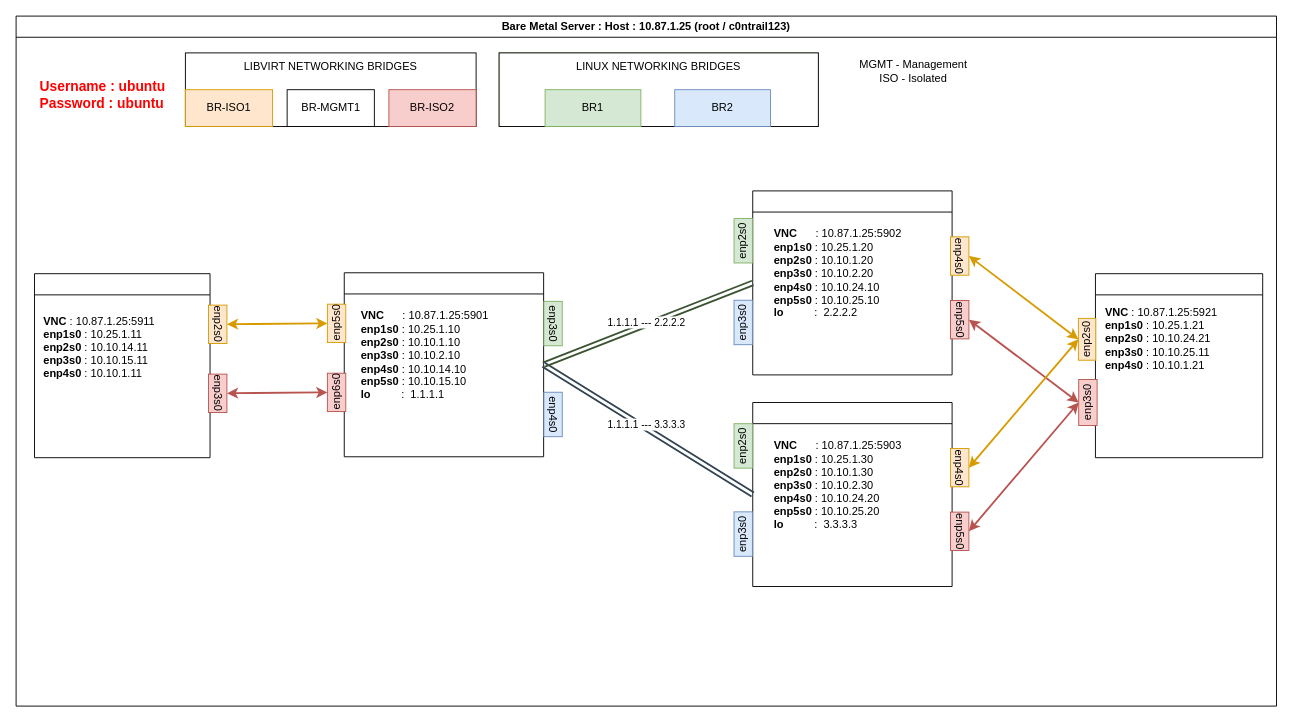
Image size: 1293x722. Some labels were removed from this diagram. Each missing label, with the box of its shape:
CE-1 : 10.25.1.11: (34, 273, 210, 458)
CE-CRPD : 10.25.1.21: (1095, 273, 1263, 458)
JCNR1 : 10.25.1.10: (343, 272, 544, 457)
JCNR2 : VM : 10.25.1.20 (jcnr / jcnr): (752, 190, 952, 375)
JCNR3 : VM : 10.25.1.30 (jcnr / jcnr): (752, 402, 952, 586)
